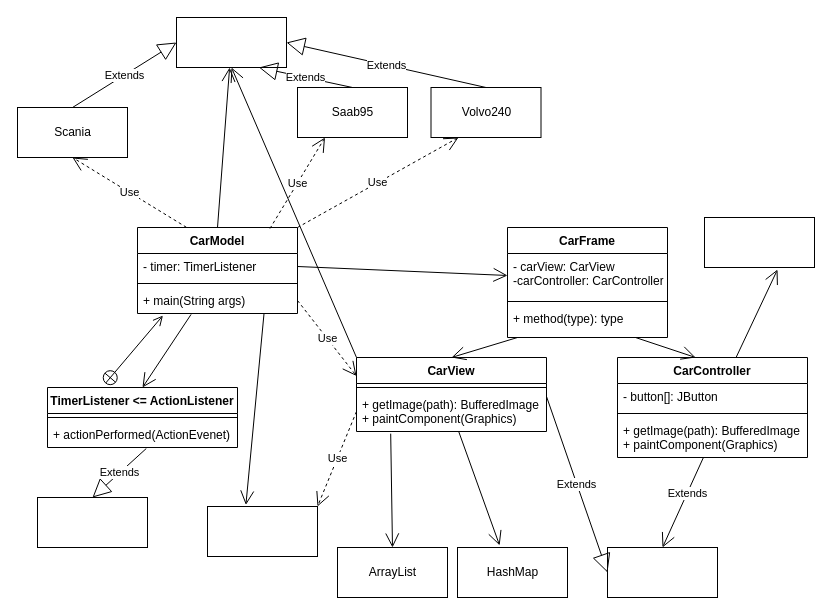
Image size: 832x615. Some labels were removed from this diagram. Each missing label, with the centre of its shape:
ACar: (231,42)
ActionListener: (92,522)
BufferedImage: (262,531)
JButton: (759,242)
JPanel: (662,572)
